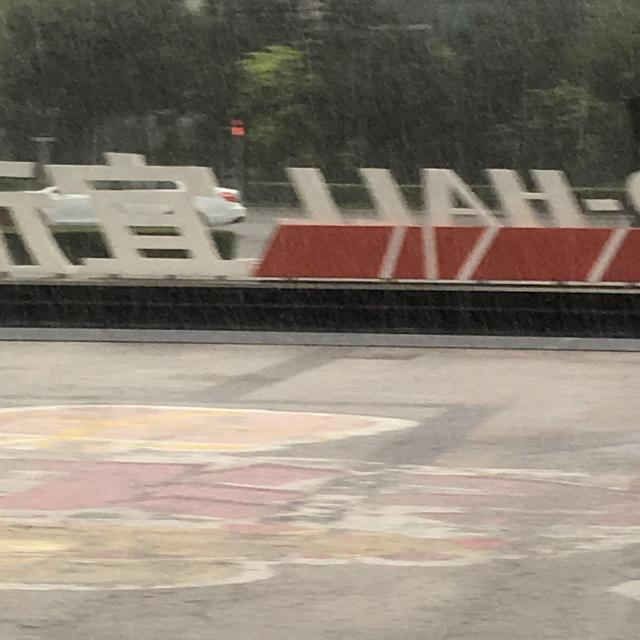car: (37, 176, 247, 227)
